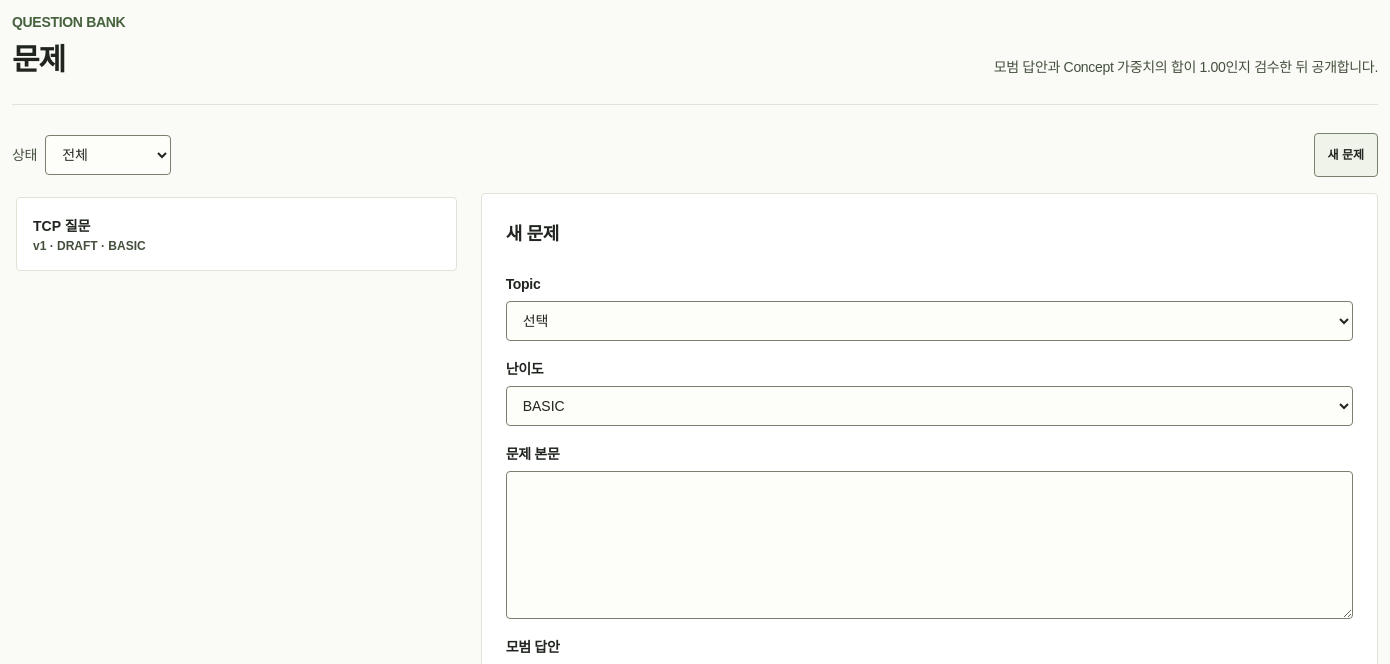
관리자 Question 화면 › 상태 필터를 바꾸면 선택을 지우고 page를 0으로 되돌린 URL을 기록한다
Click the button "TCP 질문 v1 · DRAFT · BASIC": (62, 226) [17, 198, 456, 270]
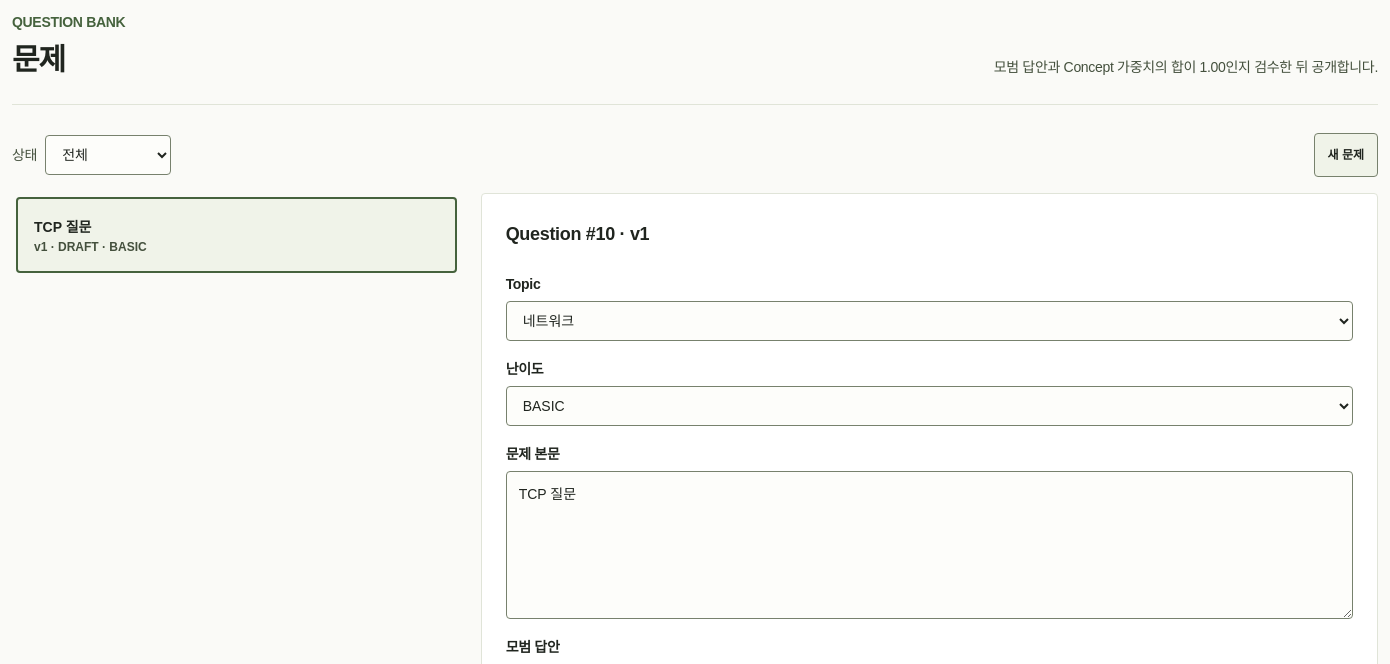
Select "PUBLISHED" in the dropdown labelled "상태": (108, 155) [45, 135, 171, 175]
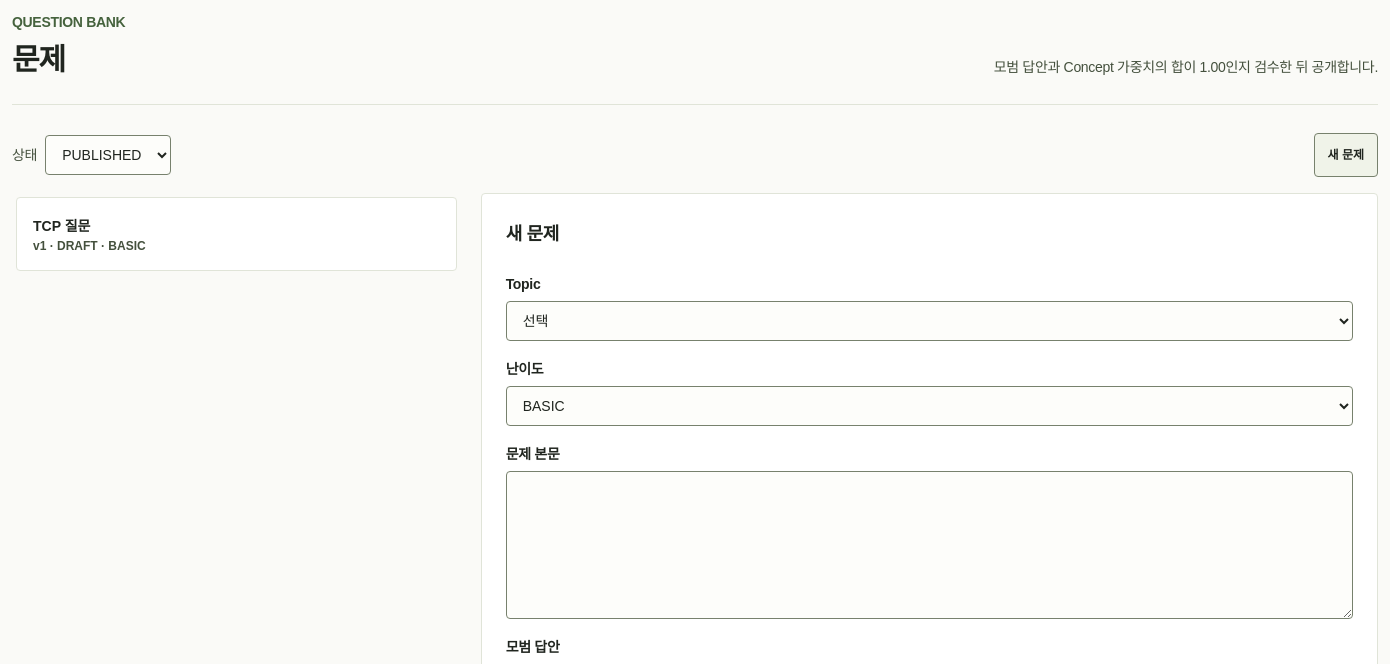
Expected: the heading "새 문제" is shown, [506, 224, 559, 244]
